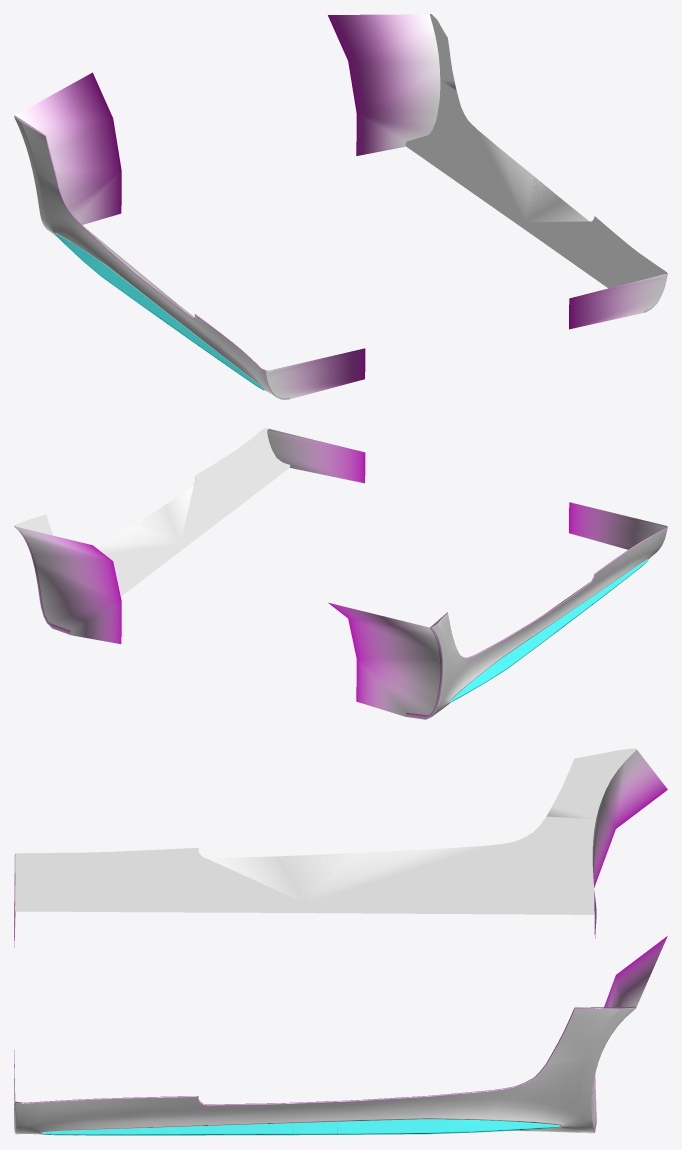
The model's file is Car_MercedesBenz_AMGGT_2015_Skirts_SetGTR.fbx.
3 views of the same model, one above another, from view 1: azimuth 30°, elevation 25°; view 2: azimuth 150°, elevation 25°; view 3: azimuth 270°, elevation 25° (orthographic). The views are drawn at different scales.
Parts seen in each view (by area): view 1: Skirts 6; view 2: Skirts 6; view 3: Skirts 6.
Part boxes in pixels (x1=…): Skirts 6: x1=14, y1=14, x2=667, y2=399; Skirts 6: x1=14, y1=428, x2=667, y2=719; Skirts 6: x1=14, y1=748, x2=667, y2=1135.
Bounding box in the file's own units: 1.98 × 0.5646 × 2.11.
